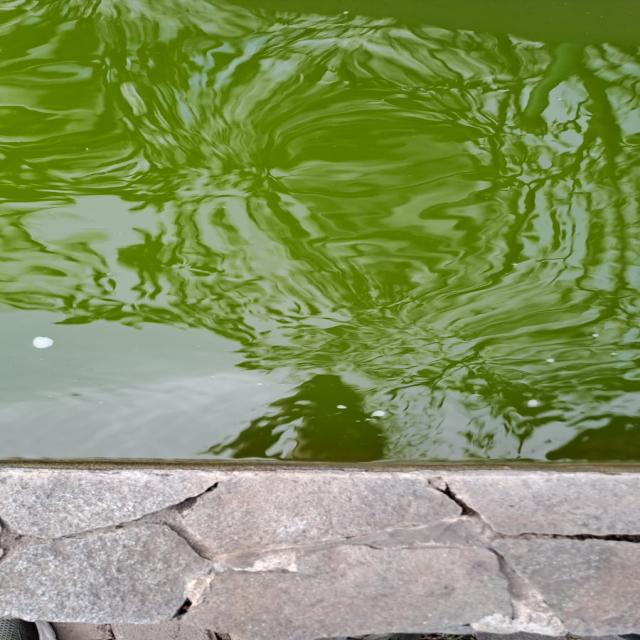Ponds: (1, 1, 640, 634)
